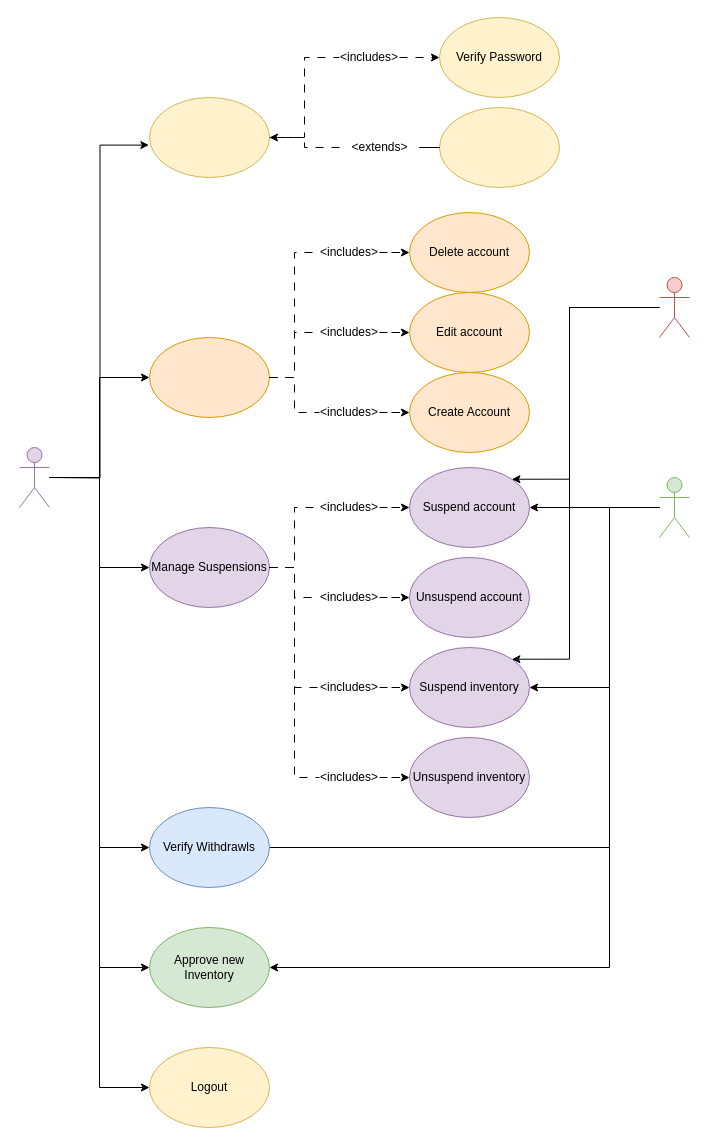
The diagram is 717 pixels wide and 1145 high, and some of its shapes have lost their labels. Here are the shapes that lost their labels. From the top down, the centre of each, then its label:
At point 209,137: "Login".
At point 499,147: "Display Login Error".
At point 674,307: "Customer".
At point 209,377: "Manage Account".
At point 34,477: "Admin".
At point 674,507: "Seller".
